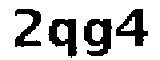2: (13, 3, 46, 51)
4: (111, 4, 152, 49)
g: (82, 18, 115, 60)
q: (46, 14, 83, 60)
